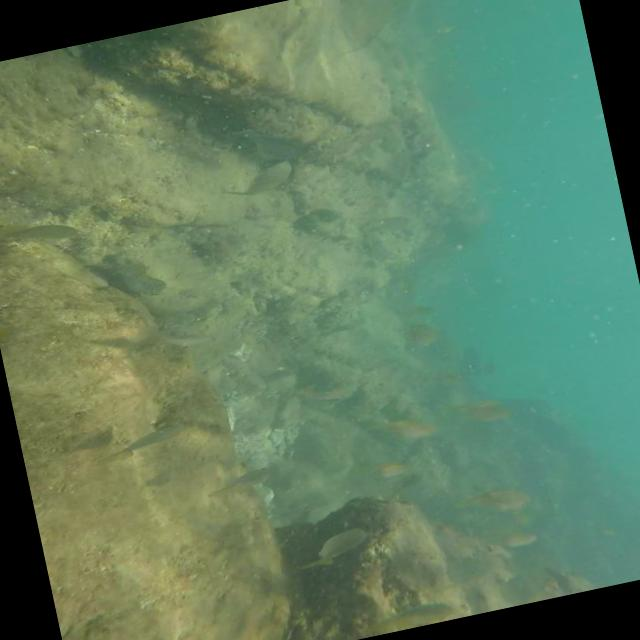Sokar Baligi: (282, 520, 388, 582), (208, 153, 302, 214)
